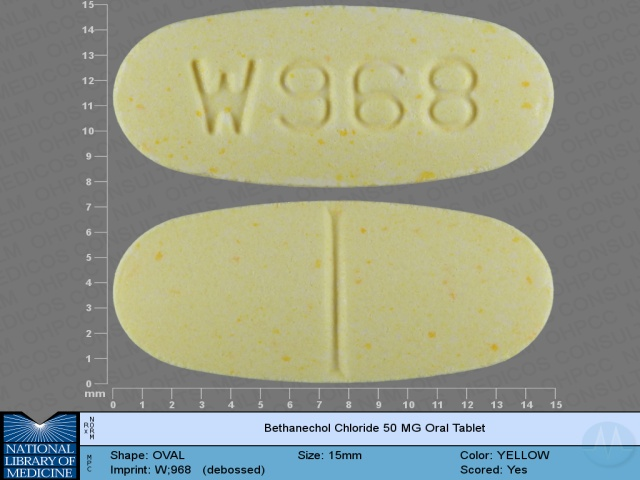6: (348, 58, 409, 135)
8: (424, 51, 482, 137)
9: (275, 56, 335, 142)
W: (188, 50, 258, 143)
|: (317, 198, 355, 382)
